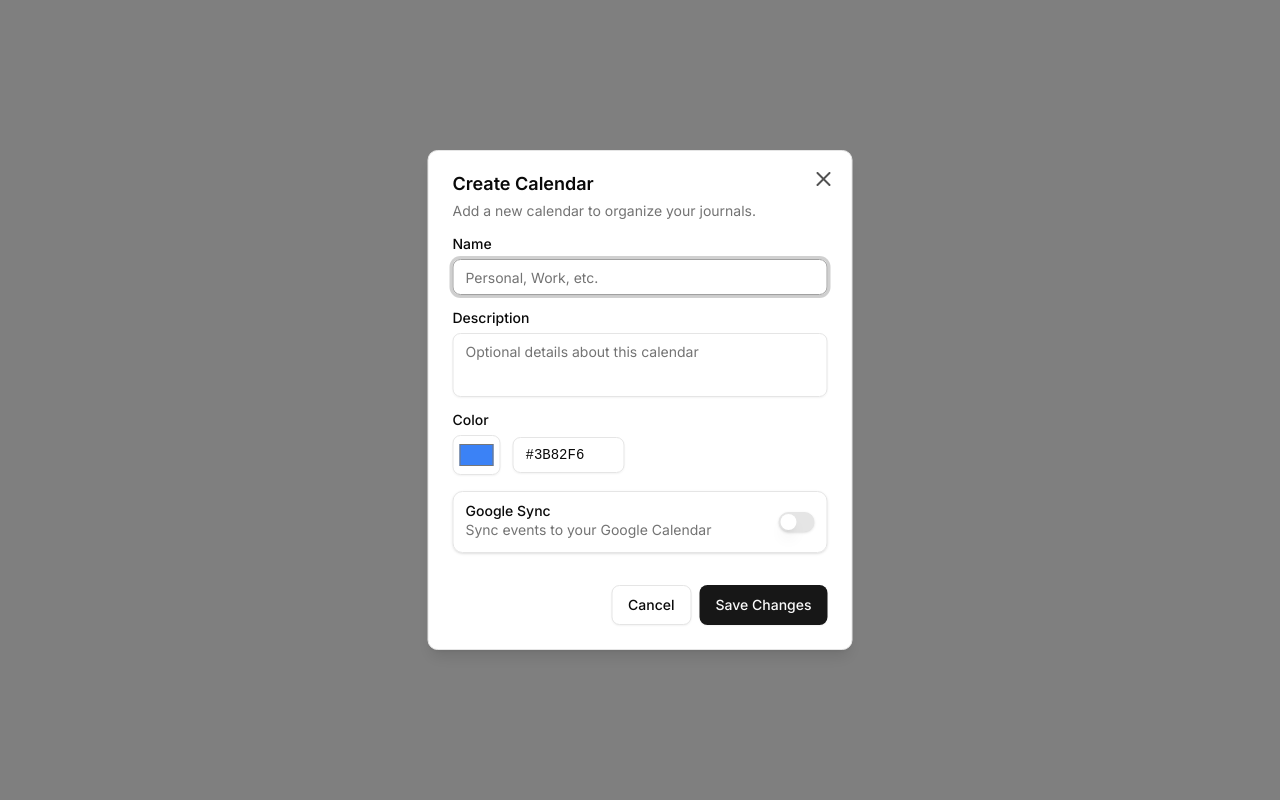
Test: CalendarSettingsDialog › read-only Google calendars › warns that a read-only calendar will not receive changes
Click the switch with test id "google-sync-toggle".
click(796, 522)  # box [778,512,814,532]
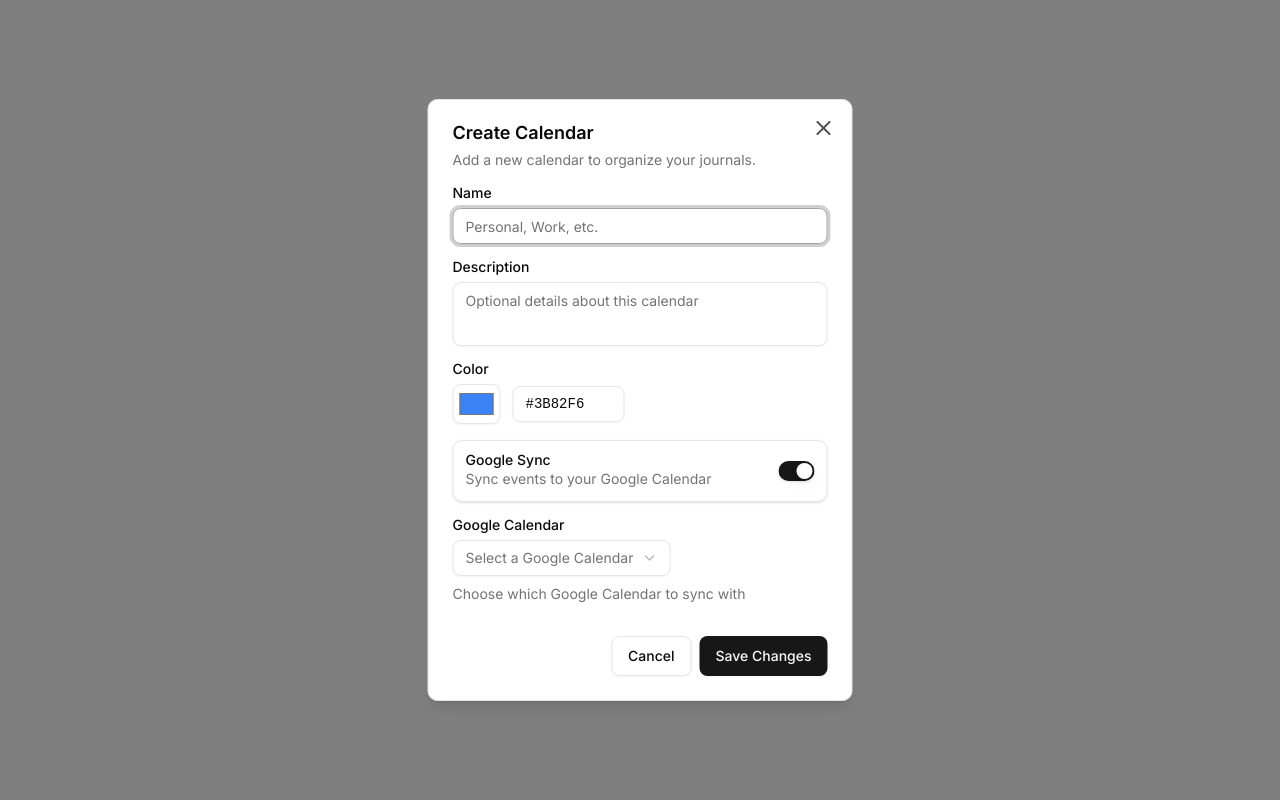
Click the dropdown with test id "google-calendar-select".
click(562, 558)  # box [452,540,670,576]
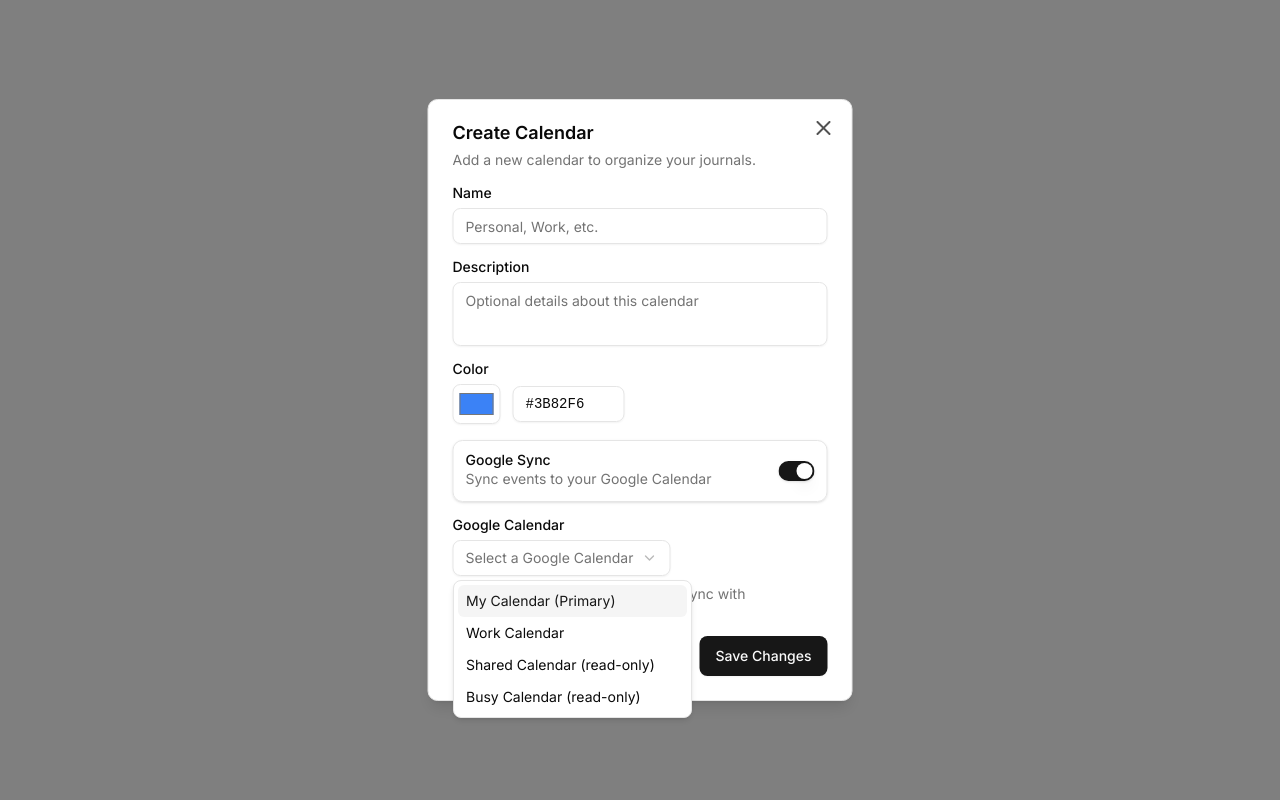
Click the option "Shared Calendar (read-only)".
click(560, 664)  # box [466,656,655,673]
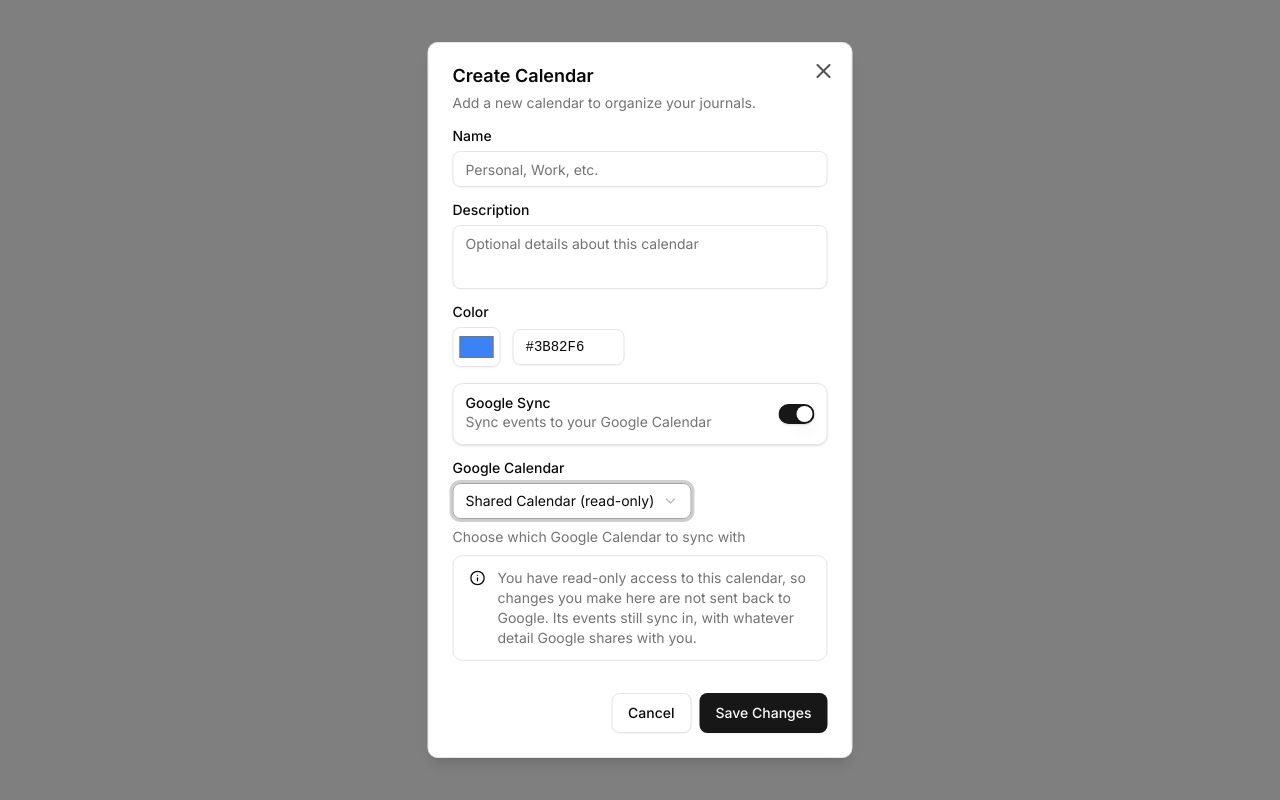
Expected: the message with test id "read-only-calendar-warning" shows "read-only access", [498,569,806,646]
Expected: the message with test id "read-only-calendar-warning" shows "not sent back to Google", [498,569,806,646]
